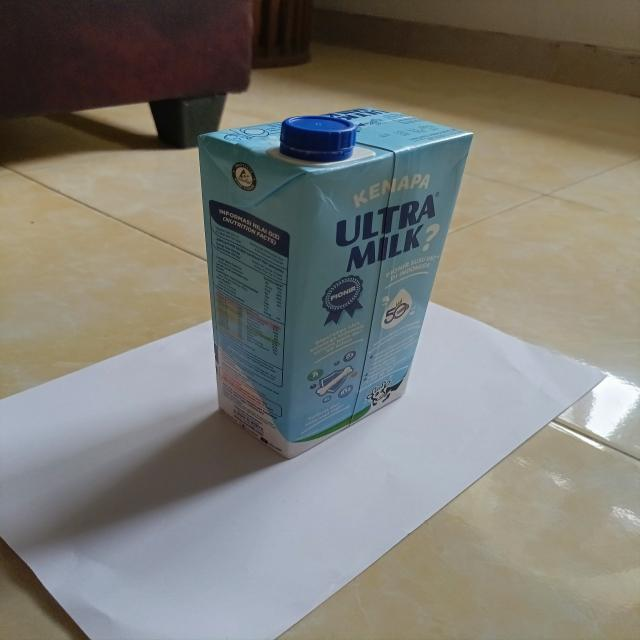indomie-mie-kocok-bandung: (196, 106, 478, 460)
